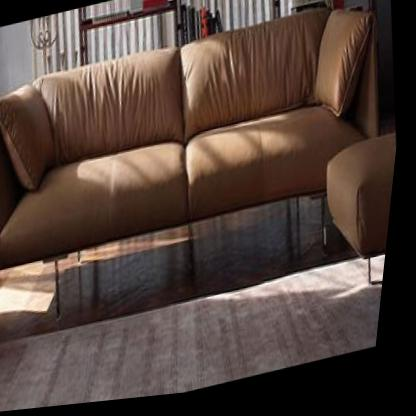Sofa: (0, 0, 414, 335)
